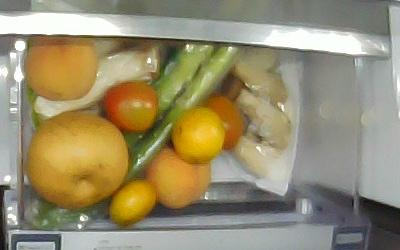peach: (26, 37, 98, 99), (148, 146, 210, 207)
pear: (27, 113, 129, 207)
tangerine: (172, 107, 224, 162), (108, 180, 157, 224)
tomato: (104, 80, 158, 135), (196, 95, 245, 151)
